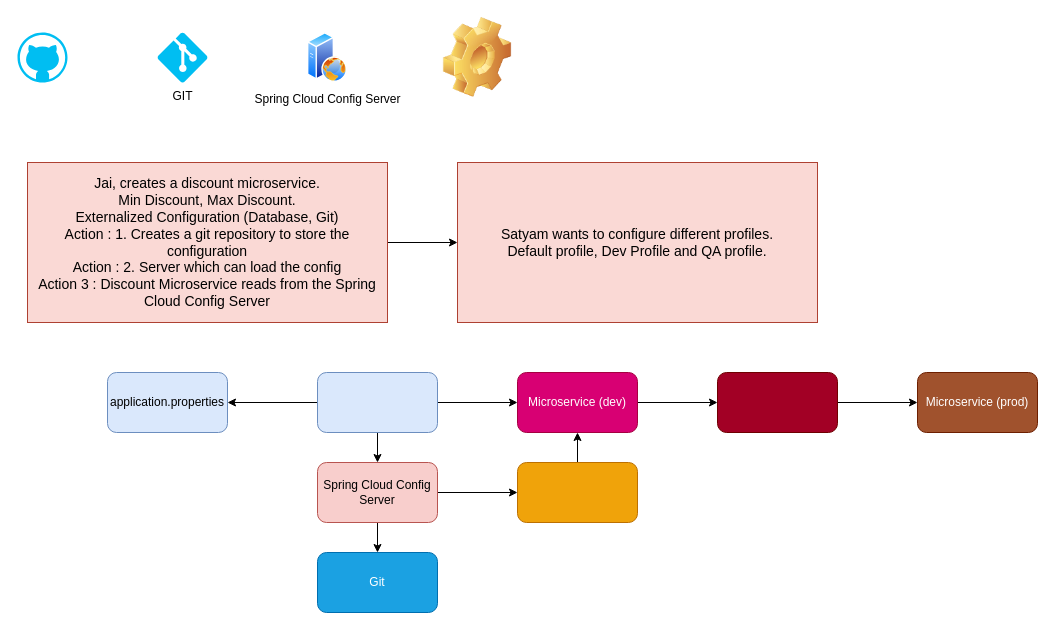
Image size: 1055x630. Some labels were removed from this diagram. The shapes that lost their labels are listed below. From the top down, each one's centre as x and y in pixels, then its label:
At (42,57): "GITHUB".
At (477,57): "DiscoutService".
At (377,402): "Microservice".
At (777,402): "Microservice (qa)".
At (577,492): "Profiles (dev)".
